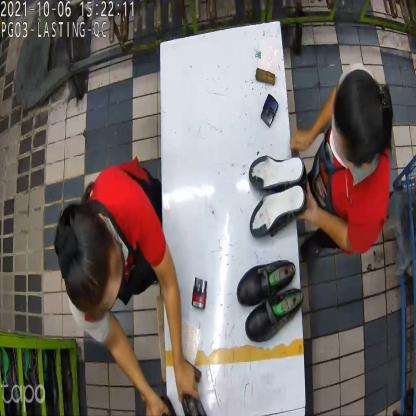shoes: (244, 153, 310, 242), (236, 262, 302, 344)
stamp: (190, 277, 210, 312), (259, 94, 279, 128)
